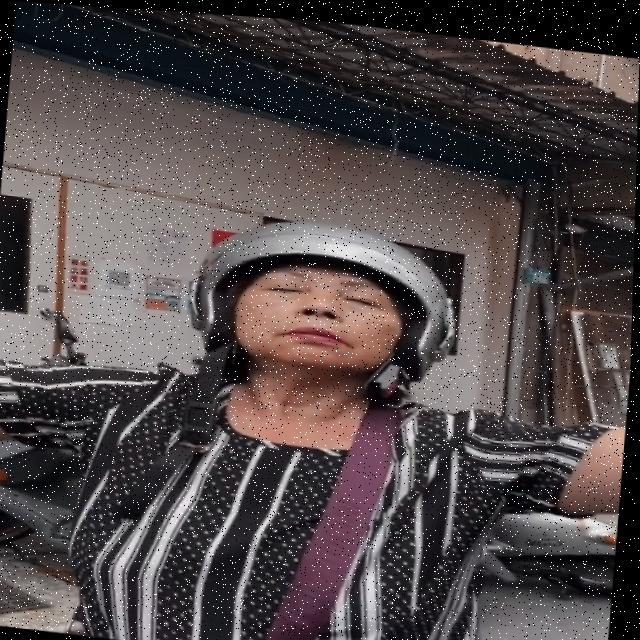illegal_helmet: (108, 191, 474, 558)
